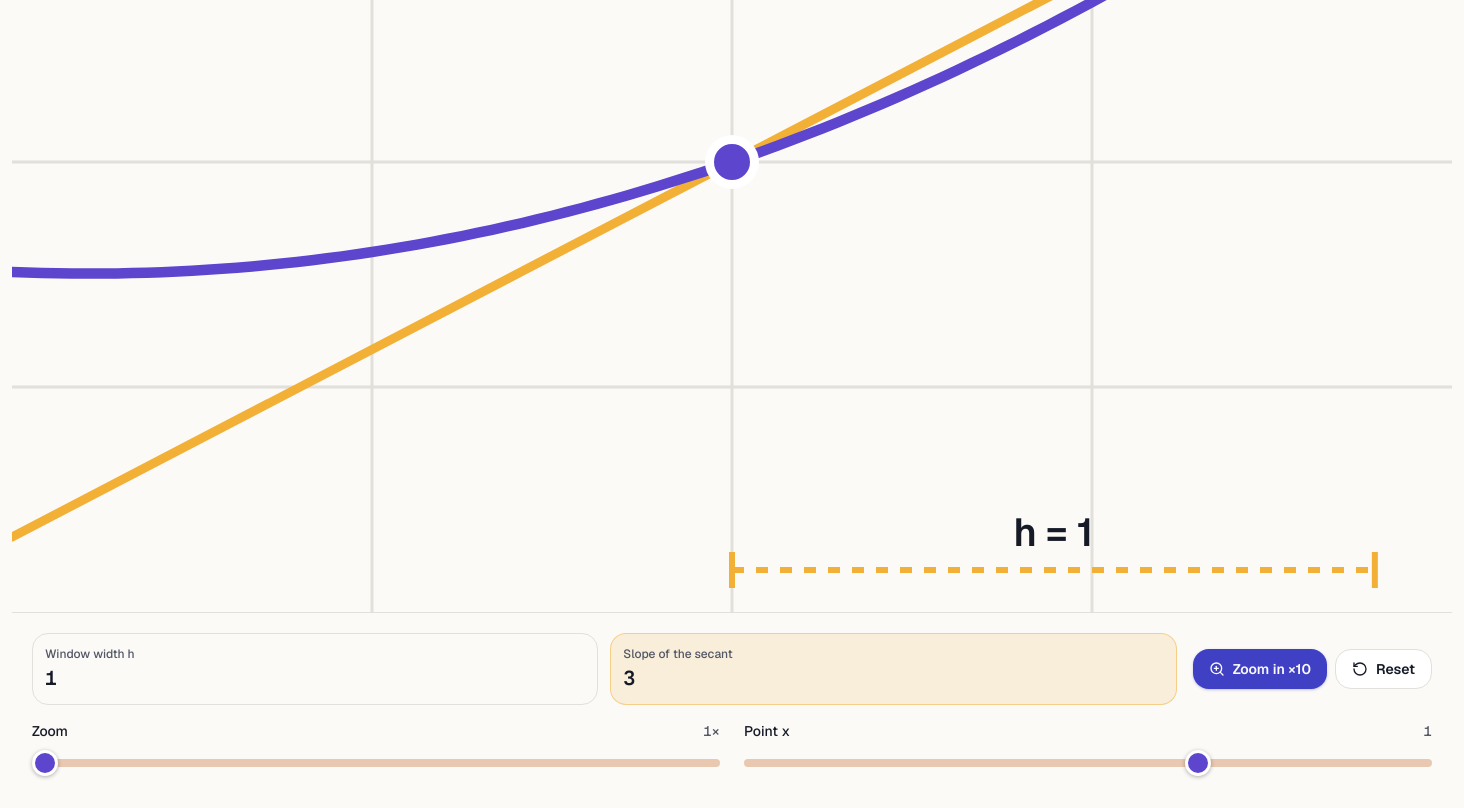
it: TangentZoom › zooms with the slider, which is reachable by keyboard
(page scrolled)
Set the slider labelled "Zoom 1×" to "2" at [376, 763], box top-left (32, 741), bottom-right (720, 785)
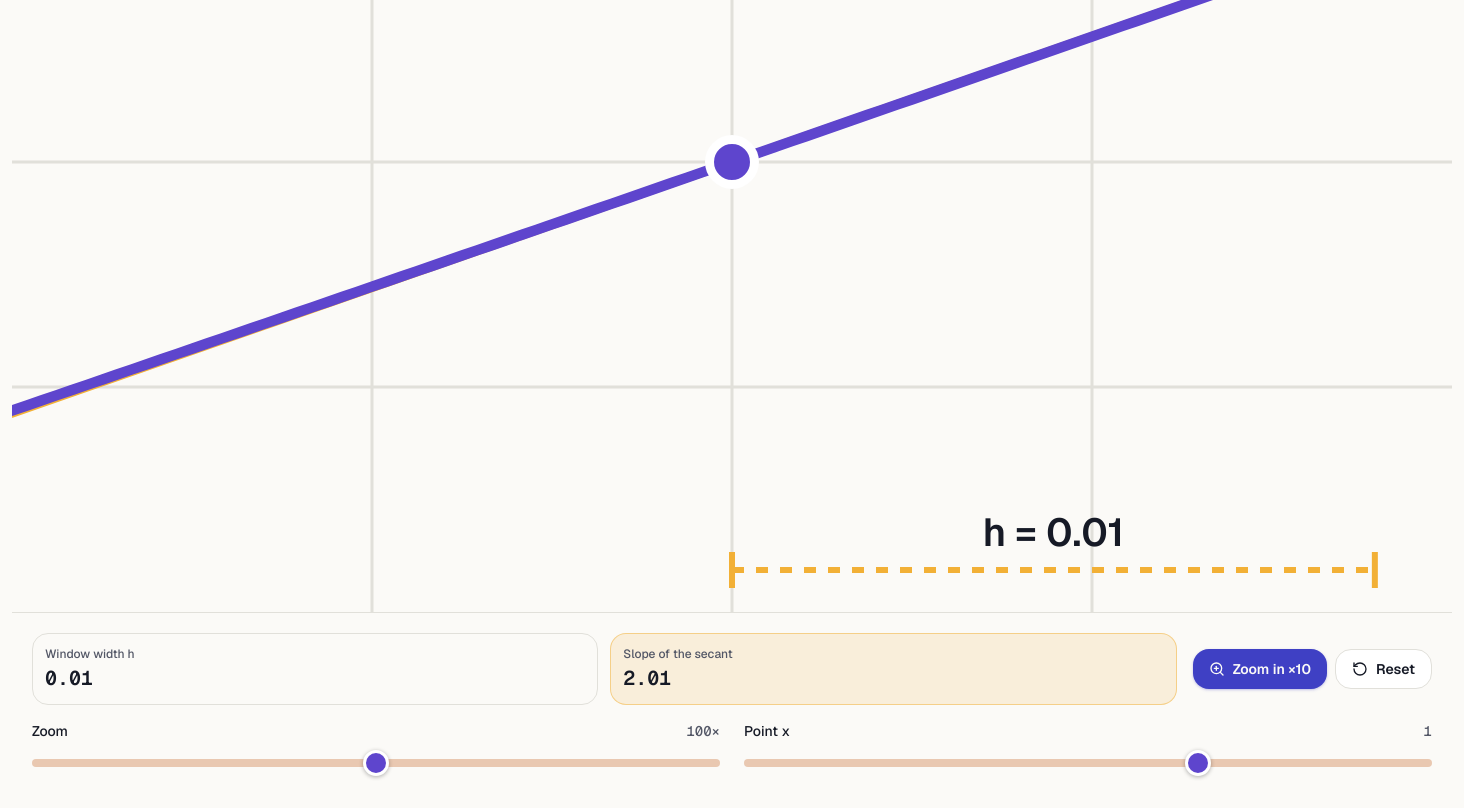
Expected: the text with test id "secant-slope" reads "2.01", top-left (623, 665), bottom-right (671, 691)
